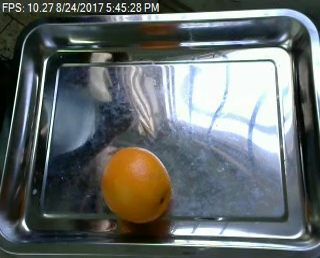Orange: (102, 146, 172, 222)
